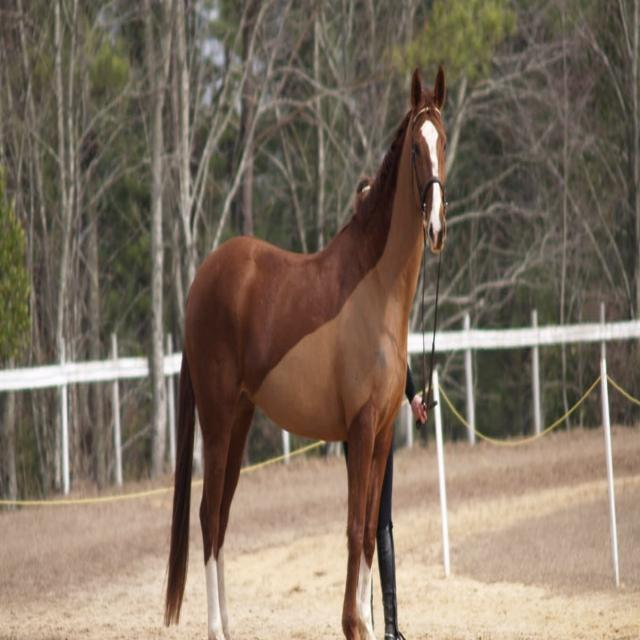horse: (164, 66, 446, 639)
